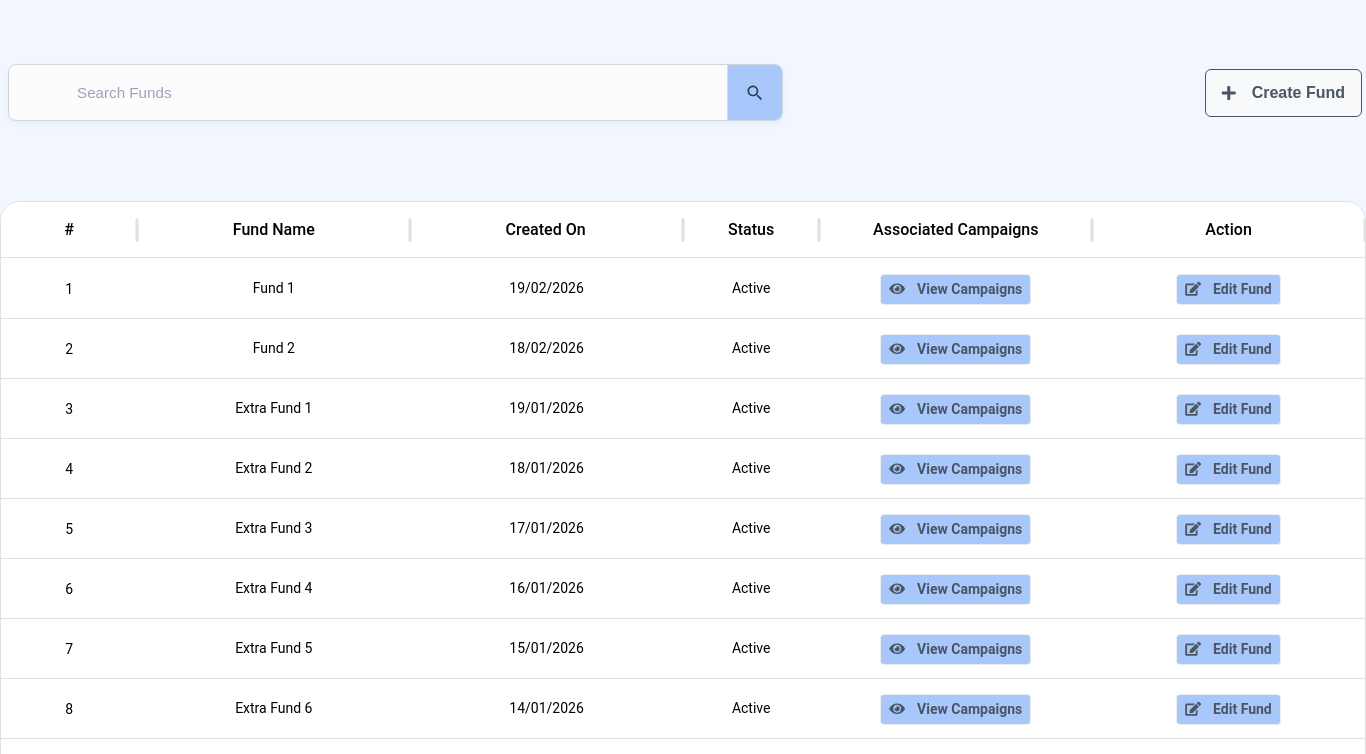
Test case: OrganizationFunds Screen => › Search the Funds list by name
Get the search field and type into it (SearchBar now uses onChange, not searchBtn)
Step 1. Type "2" into the search field with test id "searchByName" → (360, 92), box [29,84,691,101]
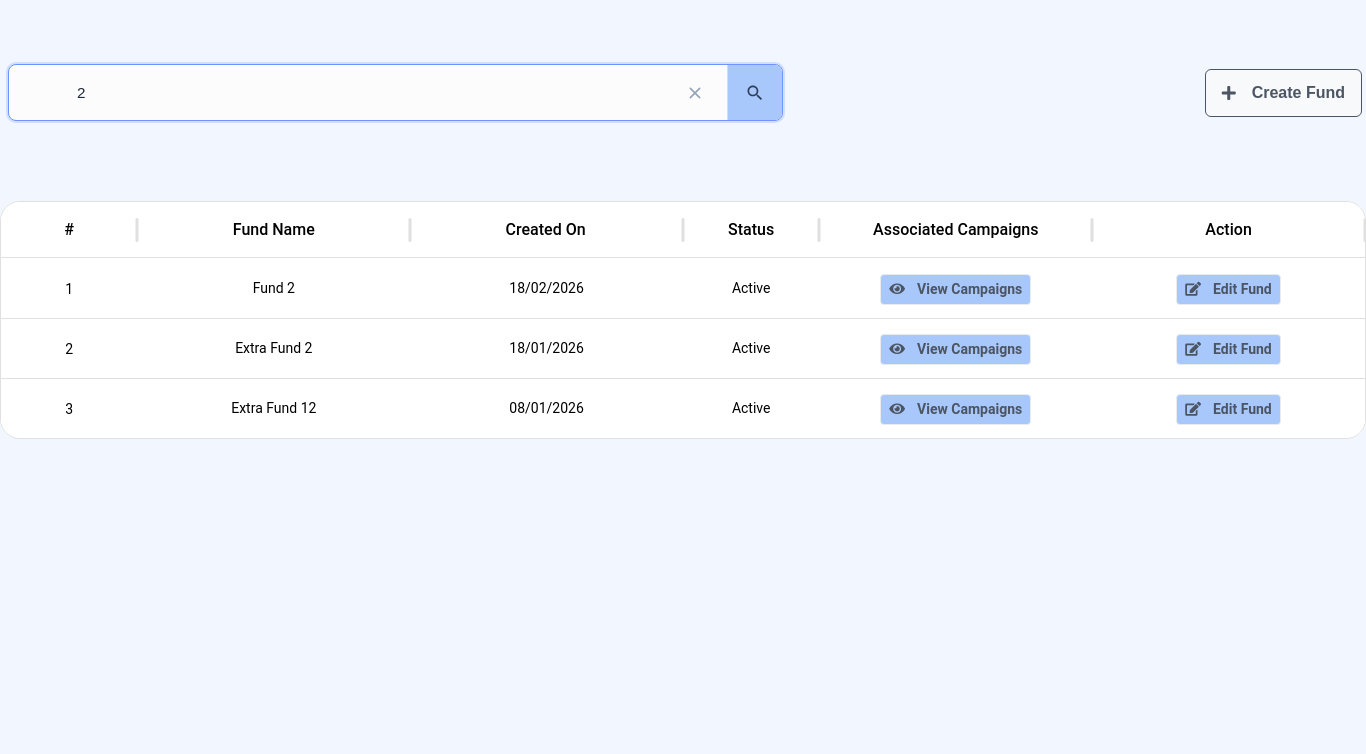
Check: the text "Fund 2" is shown once, box [253,280,295,296]
